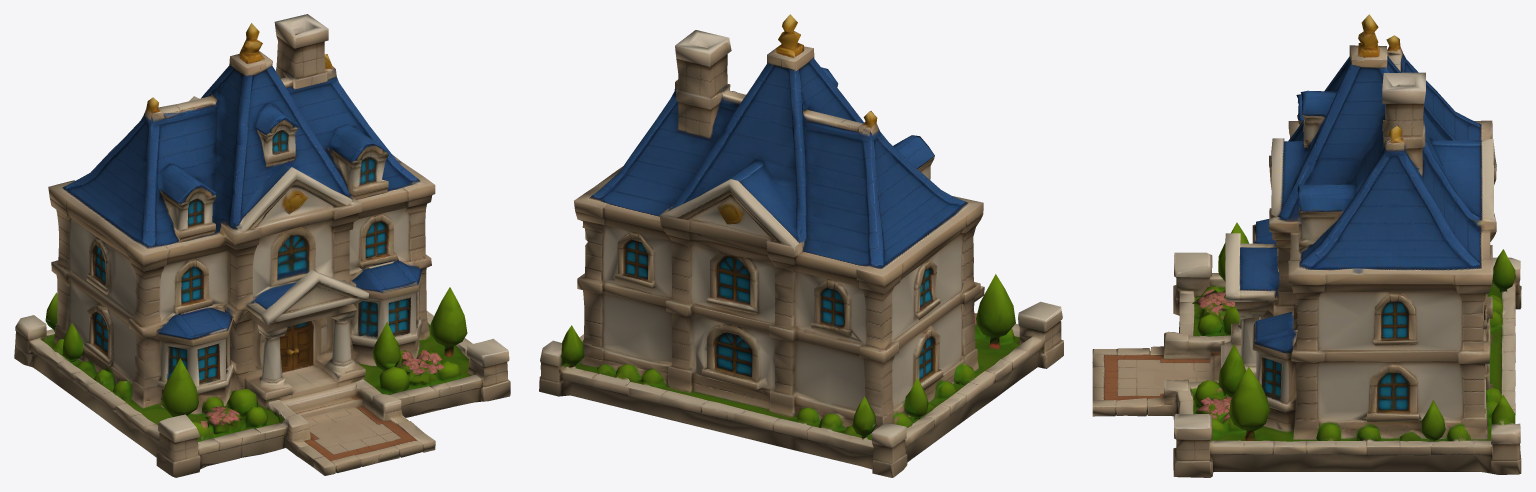
File: mayor_house.glb
3 views of the same model, side by side, from view 1: azimuth 30°, elevation 25°; view 2: azimuth 150°, elevation 25°; view 3: azimuth 270°, elevation 25° (orthographic). The views are drawn at different scales.
Visible parts, largest first — view 1: tripo_node_dc38f5d4-c3b0-4706-88f2-6037ae60065e; view 2: tripo_node_dc38f5d4-c3b0-4706-88f2-6037ae60065e; view 3: tripo_node_dc38f5d4-c3b0-4706-88f2-6037ae60065e.
Part boxes in pixels (box(x1,y1,x2,y2)): tripo_node_dc38f5d4-c3b0-4706-88f2-6037ae60065e: box(14, 14, 510, 477); tripo_node_dc38f5d4-c3b0-4706-88f2-6037ae60065e: box(539, 14, 1063, 477); tripo_node_dc38f5d4-c3b0-4706-88f2-6037ae60065e: box(1092, 14, 1521, 477).
Bounding box in the file's own units: 0.982 × 0.9651 × 1.
Materials: 1 (1 with a texture image).
